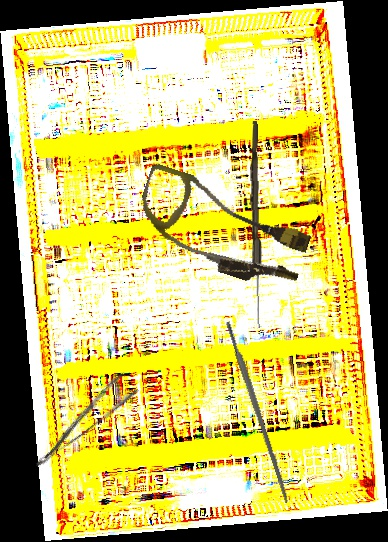Cannula: (127, 162, 318, 296)
Dressing Forceps: (22, 370, 141, 470)
Scalpel Handle: (224, 320, 292, 504)
Surgical Spoon: (247, 120, 265, 328)
